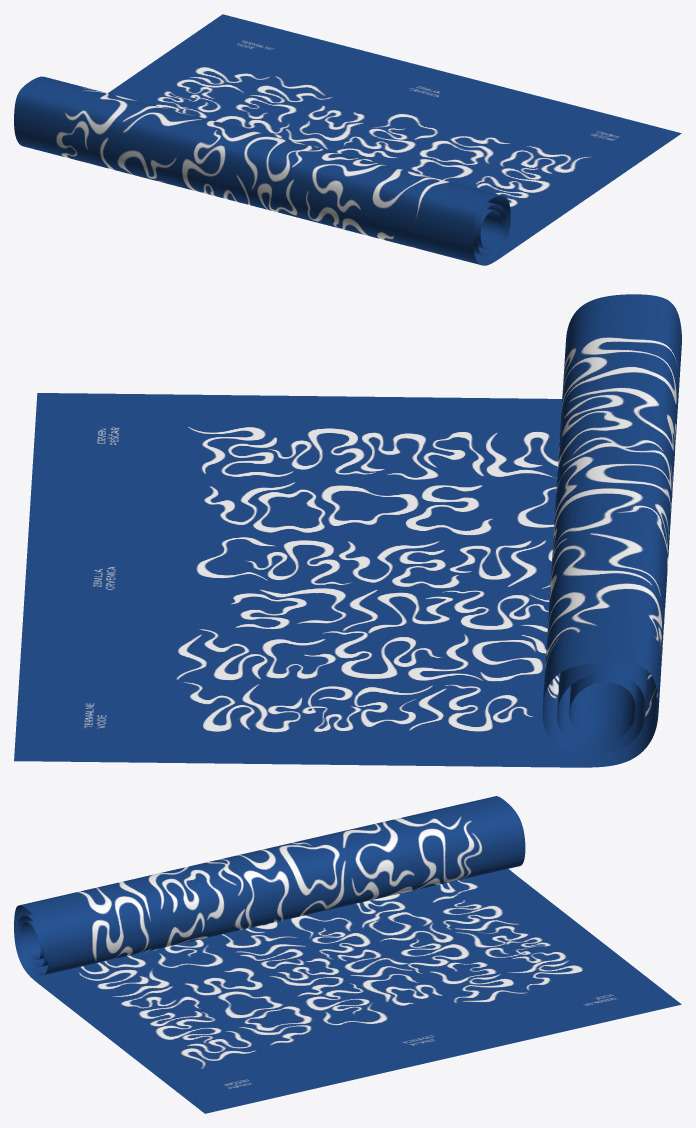
File: posters.glb
3 renders of one model, top to bottom at view 1: azimuth 30°, elevation 25°; view 2: azimuth 150°, elevation 25°; view 3: azimuth 270°, elevation 25°, orthographic. The views are drawn at different scales.
Parts seen in each view (by area): view 1: posters; view 2: posters; view 3: posters.
Part boxes in pixels (x1,y1,x2,y2): posters: [14, 14, 681, 265]; posters: [14, 294, 681, 767]; posters: [14, 796, 681, 1113].
Size of the model in its own units: 4.61 by 0.5467 by 5.04.
1 material, 1 textured.
